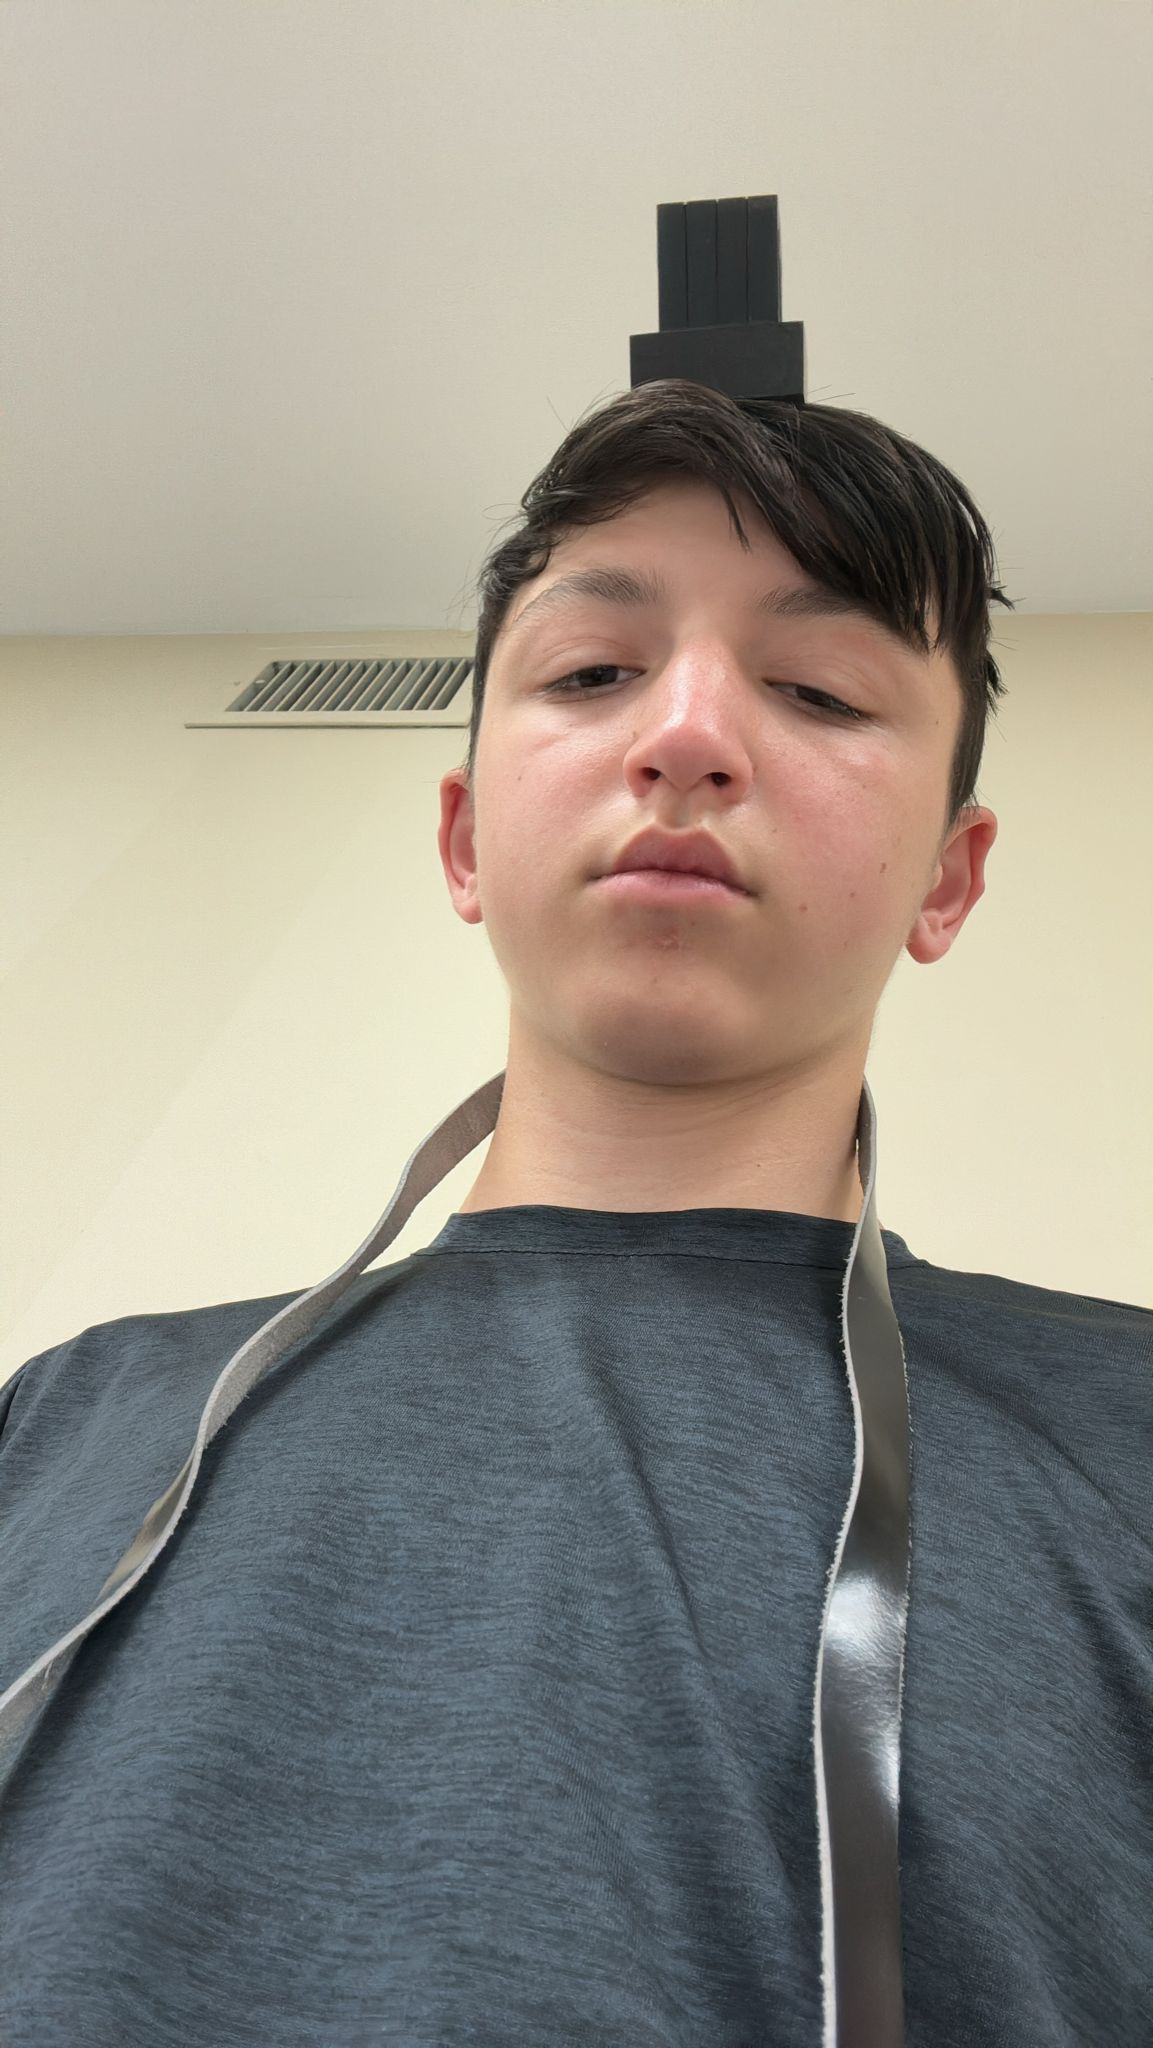tefillin: (629, 194, 809, 409)
